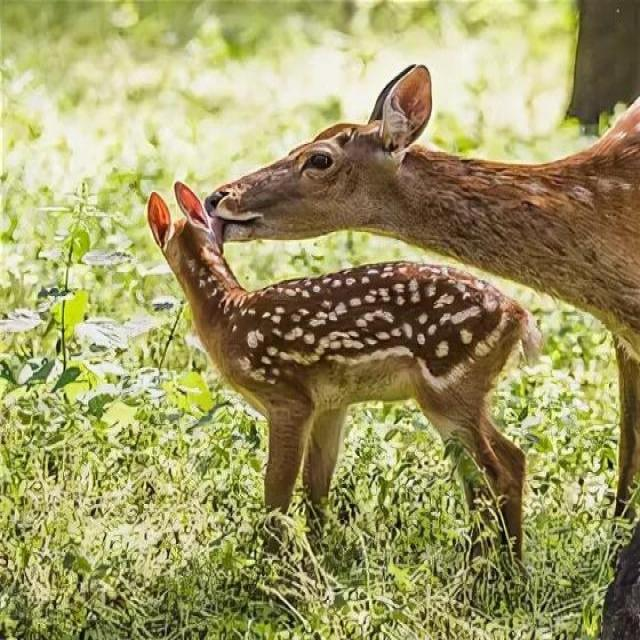deer: (224, 4, 640, 479), (114, 201, 562, 556)
